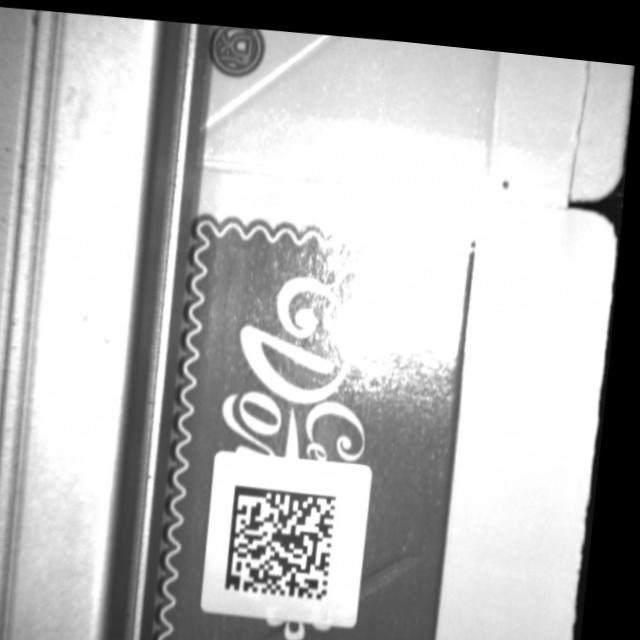datamatrix: (235, 476, 349, 594)
